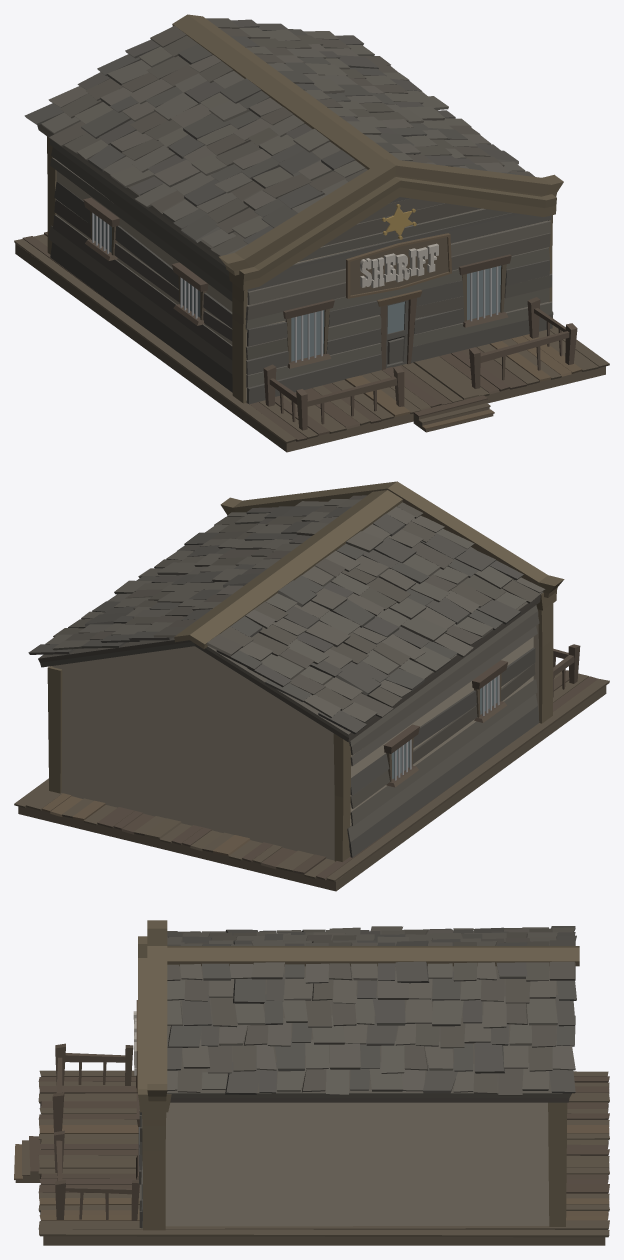
The model's file is export_sheriff_office_v02.fbx.
3 views of the same model, one above another, from view 1: azimuth 30°, elevation 25°; view 2: azimuth 150°, elevation 25°; view 3: azimuth 270°, elevation 25° (orthographic). The views are drawn at different scales.
Parts seen in each view (by area): view 1: MSH_tetto, MSH_muro_esterno (×2), MSH_portico_esterno, MSH_cornice, MSH_sceriffo_muro_esterno, MSH_porticciolo, MSH_scritta, MSH_finestre1, MSH_finestre, MSH_cornice3, MSH_finestre3, MSH_finestre2 (+3 smaller); view 2: MSH_tetto, MSH_muro_esterno, MSH_portico_esterno, MSH_cornice, MSH_banca_muro_interno, MSH_cornice3, MSH_finestre3, MSH_finestre2, MSH_porticciolo; view 3: MSH_tetto, MSH_muro_esterno, MSH_portico_esterno, MSH_cornice, MSH_porticciolo, MSH_cornice4, MSH_banca_muro_interno.
Boxes of the visible parts, box(x1,y1,x2,y2) form: MSH_tetto: box(24, 14, 534, 266); MSH_muro_esterno (×2): box(48, 139, 553, 404); MSH_portico_esterno: box(14, 231, 609, 452); MSH_cornice: box(219, 158, 563, 290); MSH_sceriffo_muro_esterno: box(247, 197, 551, 305); MSH_porticciolo: box(263, 297, 577, 430); MSH_scritta: box(346, 204, 451, 298); MSH_finestre1: box(459, 254, 511, 327); MSH_finestre: box(283, 299, 334, 368); MSH_cornice3: box(232, 296, 247, 403); MSH_finestre3: box(83, 197, 119, 260); MSH_finestre2: box(172, 262, 208, 325); MSH_tetto: box(28, 490, 545, 742); MSH_muro_esterno: box(52, 605, 539, 860); MSH_portico_esterno: box(14, 670, 609, 891); MSH_cornice: box(220, 481, 564, 610); MSH_banca_muro_interno: box(47, 666, 351, 861); MSH_cornice3: box(538, 617, 553, 723); MSH_finestre3: box(383, 724, 419, 787); MSH_finestre2: box(472, 660, 507, 722); MSH_porticciolo: box(553, 644, 580, 697); MSH_tetto: box(167, 926, 579, 1102); MSH_muro_esterno: box(165, 1102, 549, 1226); MSH_portico_esterno: box(14, 1070, 609, 1245); MSH_cornice: box(138, 920, 171, 1112); MSH_porticciolo: box(52, 1043, 139, 1220); MSH_cornice4: box(142, 1126, 165, 1230); MSH_banca_muro_interno: box(548, 1102, 567, 1226).
Size of the model in its own units: 184 by 111 by 273.
